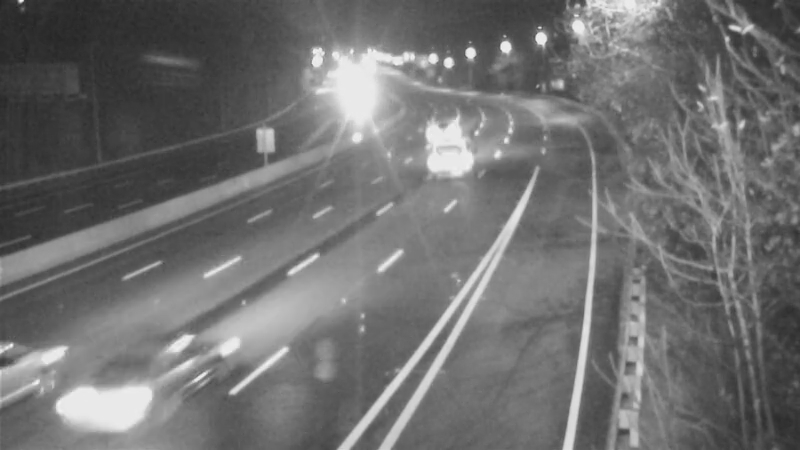vehicle: (58, 344, 168, 450), (1, 311, 94, 421), (408, 115, 488, 195), (412, 106, 462, 156)
